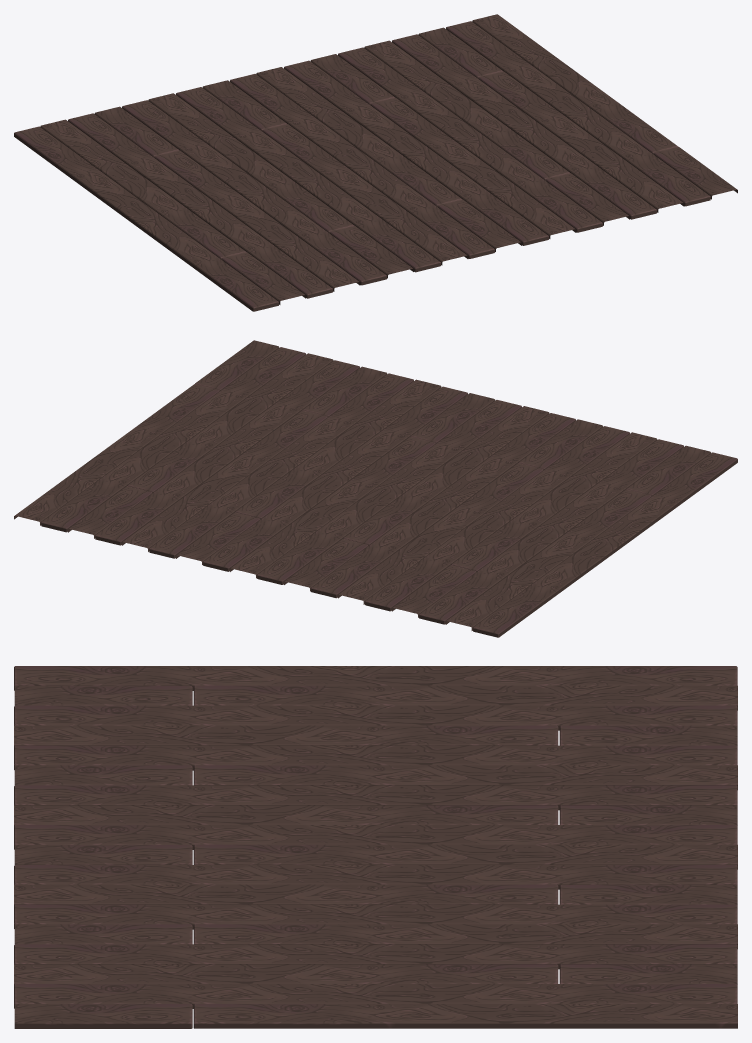
File: floor.obj
3 renders of one model, top to bottom at view 1: azimuth 30°, elevation 25°; view 2: azimuth 150°, elevation 25°; view 3: azimuth 270°, elevation 25°, orthographic. The views are drawn at different scales.
Visible parts, largest first — view 1: floor_Cube.006; view 2: floor_Cube.006; view 3: floor_Cube.006.
Boxes of the visible parts, box(x1,y1,x2,y2) form: floor_Cube.006: box(14, 14, 737, 311); floor_Cube.006: box(14, 340, 737, 637); floor_Cube.006: box(14, 666, 737, 1028).
Size of the model in its own units: 4.67 by 0.0394 by 4.
1 material, 1 textured.
